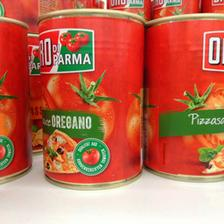Tomatensauce: (36, 7, 146, 188), (144, 11, 224, 180)
